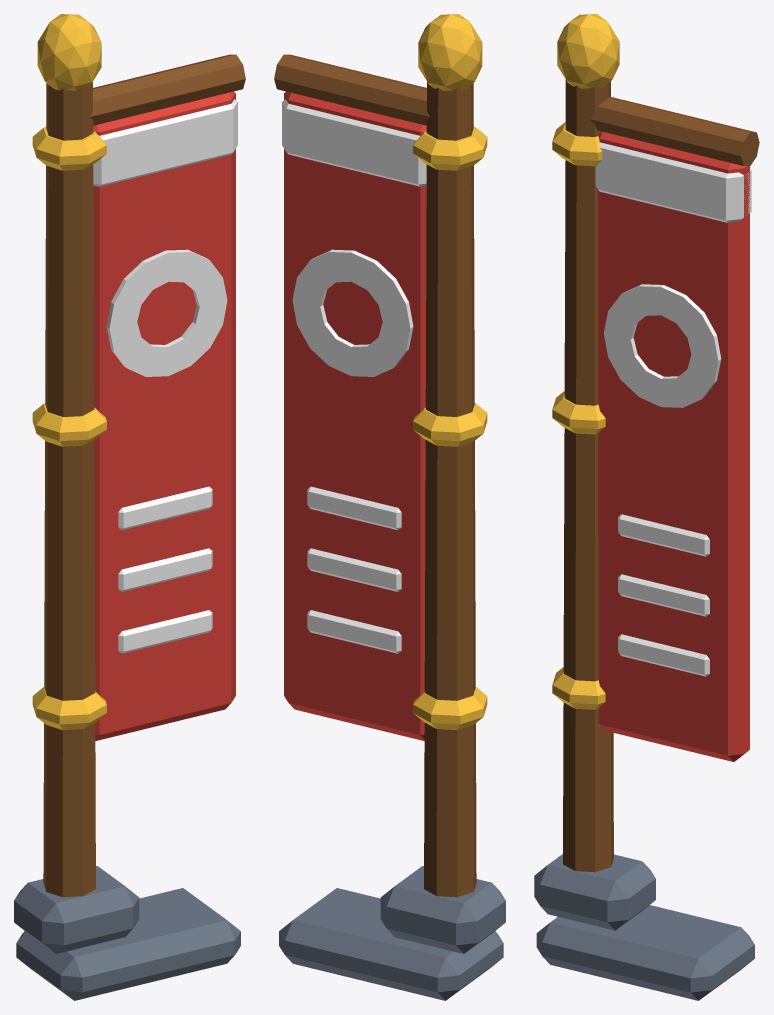
The model's file is Prop_samurai_castle_WarBanner.glb.
3 renders of one model, left to right at view 1: azimuth 30°, elevation 25°; view 2: azimuth 150°, elevation 25°; view 3: azimuth 330°, elevation 25°, orthographic. The views are drawn at different scales.
Parts seen in each view (by area): view 1: ZoneRed_E0453C, Wood_8A5A2B, CrestWhite_FFFFFF, StoneDark_6B7686, Gold_FFC83D; view 2: ZoneRed_E0453C, Wood_8A5A2B, CrestWhite_FFFFFF, StoneDark_6B7686, Gold_FFC83D; view 3: ZoneRed_E0453C, Wood_8A5A2B, CrestWhite_FFFFFF, StoneDark_6B7686, Gold_FFC83D.
Boxes of the visible parts, x1,y1,x2,y2 form: ZoneRed_E0453C: [93, 91, 235, 740]; Wood_8A5A2B: [43, 54, 245, 897]; CrestWhite_FFFFFF: [93, 99, 237, 653]; StoneDark_6B7686: [14, 866, 240, 1000]; Gold_FFC83D: [32, 14, 106, 729]; ZoneRed_E0453C: [284, 91, 426, 740]; Wood_8A5A2B: [274, 54, 476, 897]; CrestWhite_FFFFFF: [282, 99, 426, 653]; StoneDark_6B7686: [279, 866, 505, 1000]; Gold_FFC83D: [413, 14, 487, 729]; ZoneRed_E0453C: [598, 131, 749, 761]; Wood_8A5A2B: [563, 79, 759, 872]; CrestWhite_FFFFFF: [595, 142, 751, 676]; StoneDark_6B7686: [534, 854, 754, 1000]; Gold_FFC83D: [552, 14, 619, 709].
Size of the model in its own units: 3 by 13.3 by 1.5.
